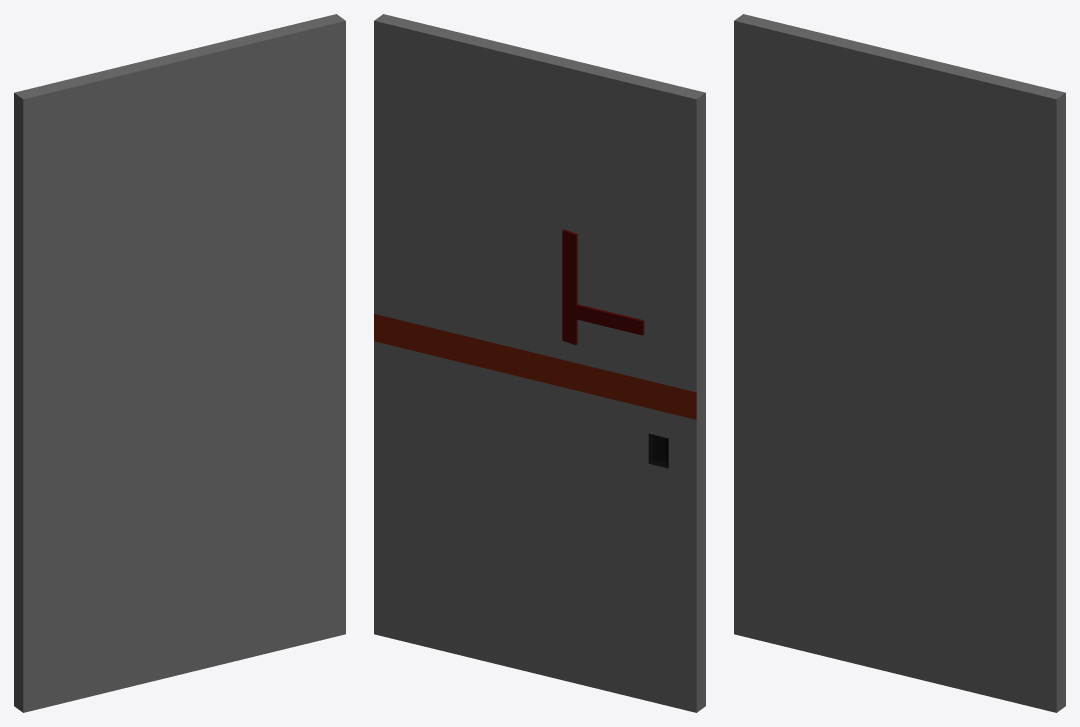
Rendered from Porte_coulissante_02.FBX.
3 renders of one model, left to right at view 1: azimuth 30°, elevation 25°; view 2: azimuth 150°, elevation 25°; view 3: azimuth 330°, elevation 25°, orthographic.
Visible parts, largest first — view 1: Box010; view 2: Box010, Box012, Box011; view 3: Box010.
Part boxes in pixels (left/top/right/bottom): Box010: left=14, top=14, right=345, bottom=712; Box010: left=374, top=14, right=705, bottom=712; Box012: left=562, top=229, right=577, bottom=345; Box011: left=574, top=304, right=644, bottom=335; Box010: left=734, top=14, right=1065, bottom=712.
Bounding box in the file's own units: 1.1 × 2 × 0.0659.
